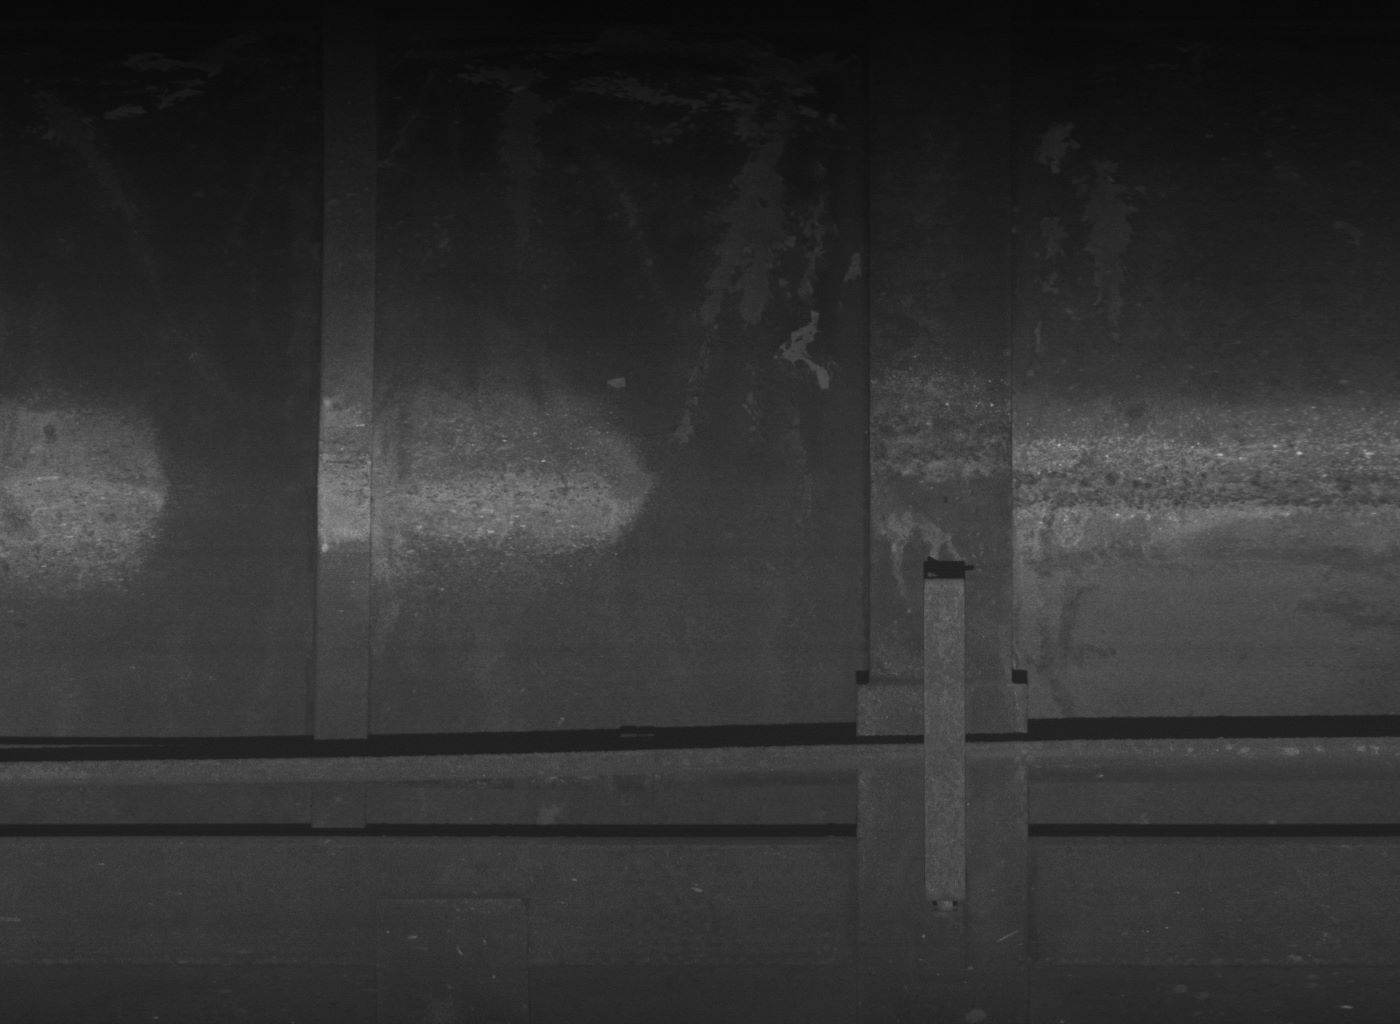normal: (923, 574, 966, 920)
